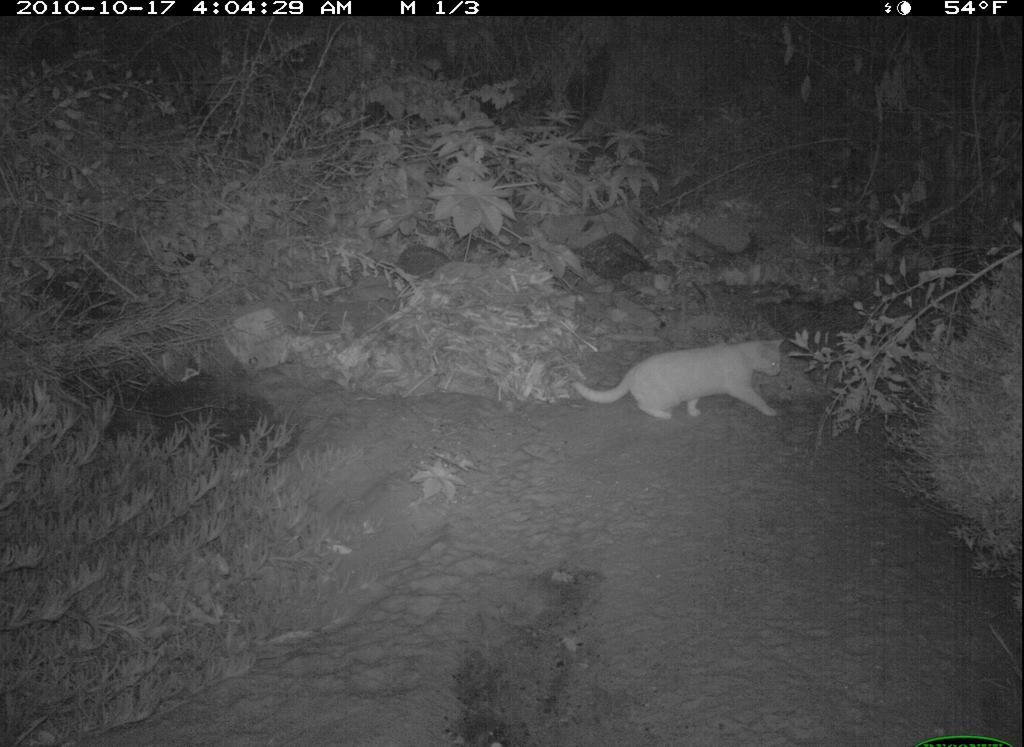cat: (565, 331, 797, 426)
